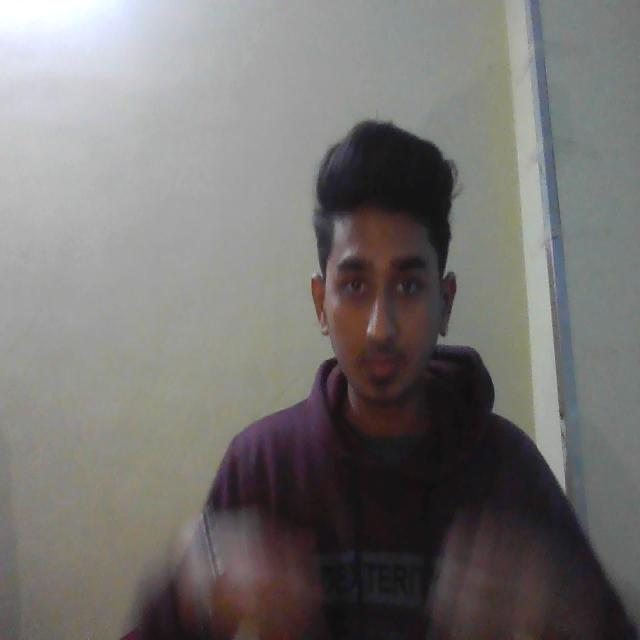real: (306, 126, 469, 434)
